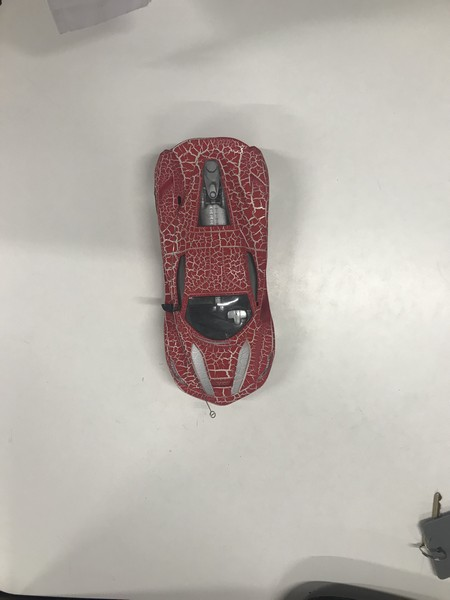RC: (149, 134, 280, 408)
